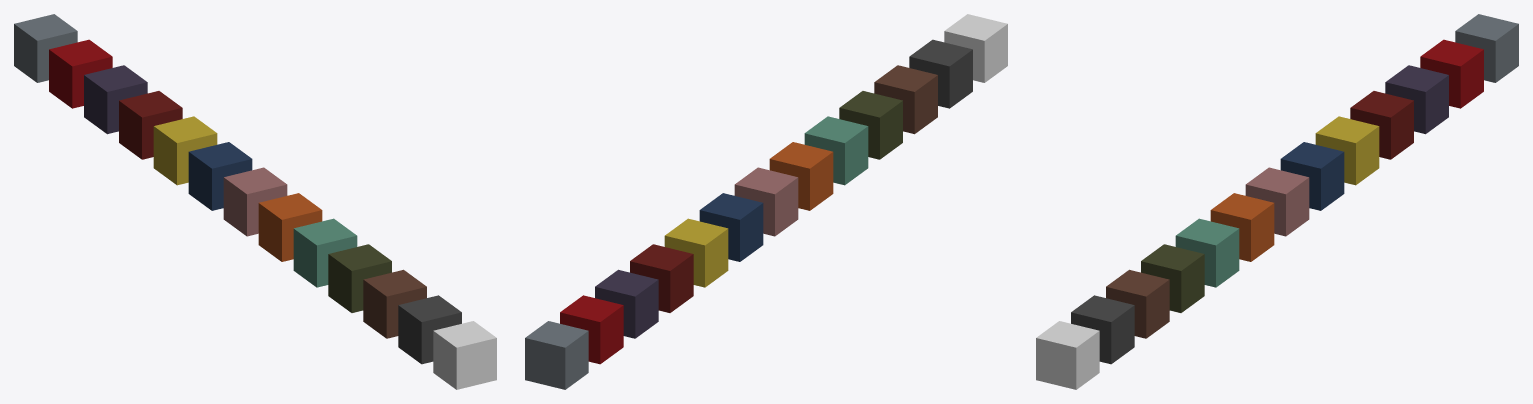
File: Cube_SFB.fbx
3 views of the same model, side by side, from view 1: azimuth 30°, elevation 25°; view 2: azimuth 150°, elevation 25°; view 3: azimuth 330°, elevation 25° (orthographic).
Visible parts, largest first — view 1: Light_Chassis_Cube_T1, Armored_Cube_T5, Armored_Cube_T4, Armored_Cube_T7, Armored_Cube_T3, Armored_Cube_T6, Armored_Cube_T1, Heavy_Chassis_Cube, Armored_Cube_T2, Armored_Cube_T9, Armored_Cube_10, Armored_Cube_TX1 (+1 smaller); view 2: Armored_Cube_TX1, Armored_Cube_T5, Armored_Cube_T6, Armored_Cube_T7, Armored_Cube_T3, Armored_Cube_T4, Armored_Cube_10, Armored_Cube_T9, Armored_Cube_T8, Armored_Cube_T1, Heavy_Chassis_Cube, Light_Chassis_Cube_T1 (+1 smaller); view 3: Light_Chassis_Cube_T1, Armored_Cube_T5, Armored_Cube_T4, Armored_Cube_T7, Armored_Cube_T3, Armored_Cube_T6, Armored_Cube_T1, Heavy_Chassis_Cube, Armored_Cube_T2, Armored_Cube_T9, Armored_Cube_10, Armored_Cube_TX1 (+1 smaller).
Boxes of the visible parts, box(x1,y1,x2,y2) form: Light_Chassis_Cube_T1: box(433, 321, 496, 389); Armored_Cube_T5: box(223, 167, 287, 236); Armored_Cube_T4: box(258, 193, 322, 261); Armored_Cube_T7: box(153, 116, 217, 185); Armored_Cube_T3: box(293, 218, 357, 287); Armored_Cube_T6: box(188, 142, 252, 210); Armored_Cube_T1: box(363, 269, 426, 338); Heavy_Chassis_Cube: box(398, 295, 461, 364); Armored_Cube_T2: box(328, 244, 391, 312); Armored_Cube_T9: box(84, 65, 147, 134); Armored_Cube_10: box(49, 39, 112, 108); Armored_Cube_TX1: box(14, 14, 77, 82); Armored_Cube_TX1: box(525, 321, 588, 389); Armored_Cube_T5: box(734, 167, 798, 236); Armored_Cube_T6: box(699, 193, 763, 261); Armored_Cube_T7: box(664, 218, 728, 287); Armored_Cube_T3: box(804, 116, 868, 185); Armored_Cube_T4: box(769, 142, 833, 210); Armored_Cube_10: box(560, 295, 623, 364); Armored_Cube_T9: box(595, 269, 658, 338); Armored_Cube_T8: box(630, 244, 693, 312); Armored_Cube_T1: box(874, 65, 937, 134); Heavy_Chassis_Cube: box(909, 39, 972, 108); Light_Chassis_Cube_T1: box(944, 14, 1007, 82); Light_Chassis_Cube_T1: box(1036, 321, 1099, 389); Armored_Cube_T5: box(1245, 167, 1309, 236); Armored_Cube_T4: box(1210, 193, 1274, 261); Armored_Cube_T7: box(1315, 116, 1379, 185); Armored_Cube_T3: box(1175, 218, 1239, 287); Armored_Cube_T6: box(1280, 142, 1344, 210); Armored_Cube_T1: box(1106, 269, 1169, 338); Heavy_Chassis_Cube: box(1071, 295, 1134, 364); Armored_Cube_T2: box(1141, 244, 1204, 312); Armored_Cube_T9: box(1385, 65, 1448, 134); Armored_Cube_10: box(1420, 39, 1483, 108); Armored_Cube_TX1: box(1455, 14, 1518, 82).
Size of the model in its own units: 200 by 200 by 3800.
